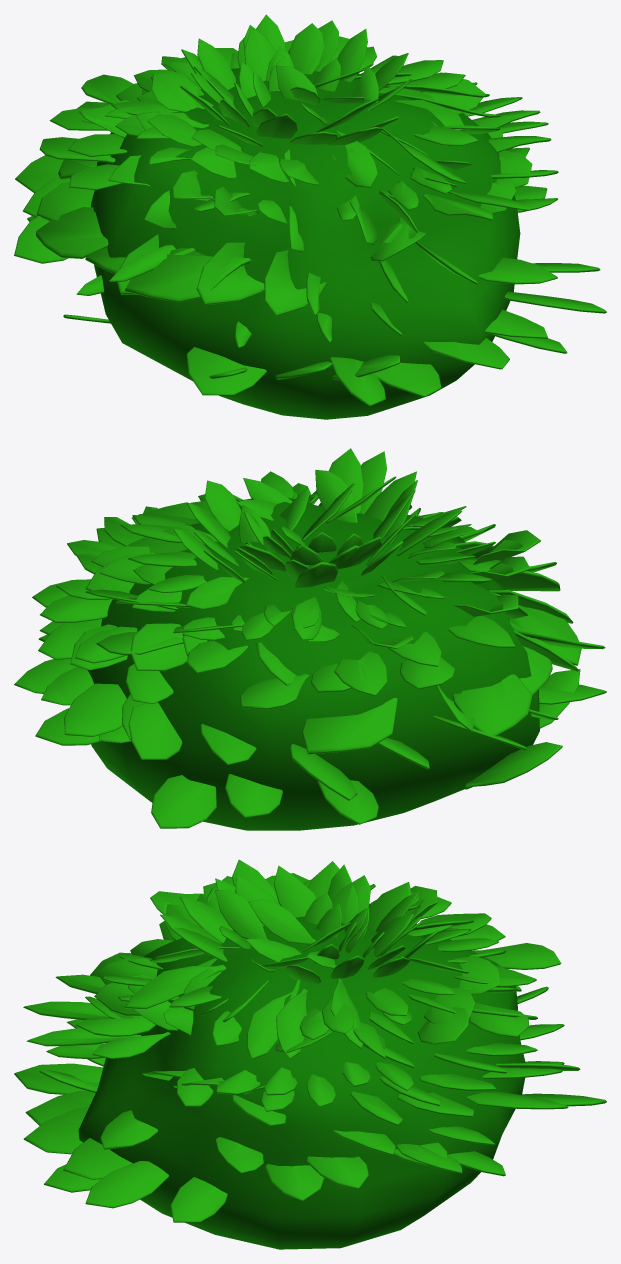
File: Bush.fbx
3 views of the same model, one above another, from view 1: azimuth 30°, elevation 25°; view 2: azimuth 150°, elevation 25°; view 3: azimuth 270°, elevation 25° (orthographic). The views are drawn at different scales.
Parts seen in each view (by area): view 1: Sphere.011; view 2: Sphere.011; view 3: Sphere.011.
Boxes of the visible parts, left/top/right/bottom form: Sphere.011: left=14, top=14, right=606, bottom=419; Sphere.011: left=14, top=448, right=606, bottom=830; Sphere.011: left=14, top=859, right=606, bottom=1249.
Size of the model in its own units: 244 by 150 by 260.
